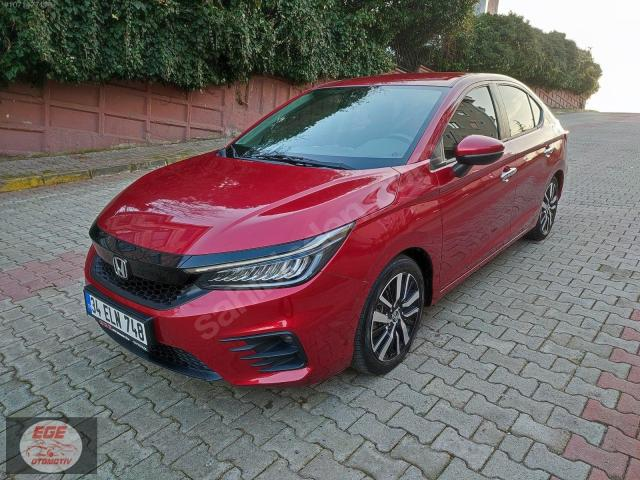plaka: (84, 285, 157, 352)
